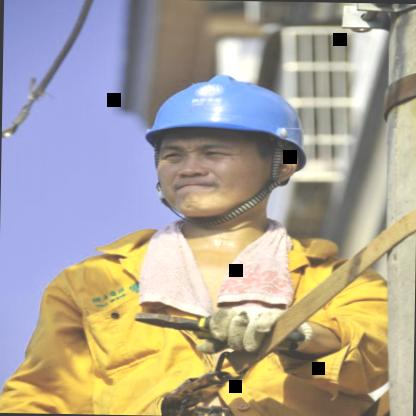helmet: (128, 60, 326, 228)
